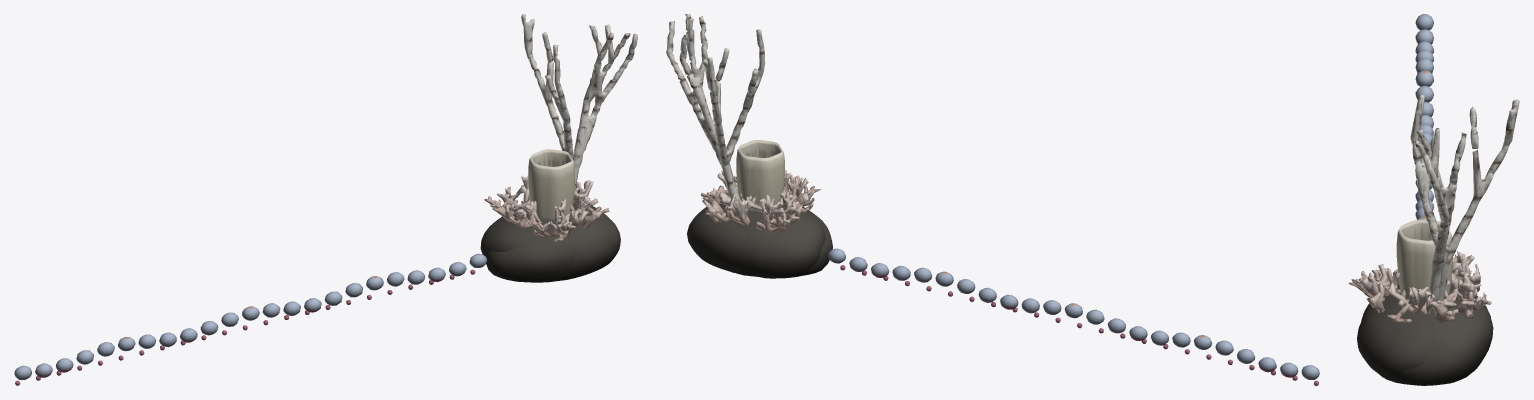
File: deep_cosy.glb
The picture shows the model from 3 angles, left to right: view 1: azimuth 30°, elevation 25°; view 2: azimuth 150°, elevation 25°; view 3: azimuth 270°, elevation 25°; orthographic projection. The views are drawn at different scales.
Parts seen in each view (by area): view 1: siphonophore_0, deeprock_1, deeprock_0, siphonophore_0_lo, glasssponge_0, bamboo_1, bamboo_0, bamboo_1_lo, deeprock_1_lo, bamboo_0_lo, deepcoral_2, deeprock_0_lo (+4 smaller); view 2: siphonophore_0, deeprock_0, siphonophore_0_lo, deeprock_0_lo, bamboo_0, bamboo_1, glasssponge_0, glasssponge_0_lo, bamboo_1_lo, bamboo_0_lo, deepcoral_2, deeprock_1 (+3 smaller); view 3: deeprock_0, bamboo_0, deeprock_0_lo, bamboo_1, deeprock_1, bamboo_0_lo, siphonophore_0, glasssponge_0, bamboo_1_lo, glasssponge_0_lo, deepcoral_1, deepcoral_2 (+6 smaller).
Boxes of the visible parts, x1,y1,x2,y2 form: siphonophore_0: (14,253,486,385); deeprock_1: (485,203,620,282); deeprock_0: (480,202,615,275); siphonophore_0_lo: (14,253,486,385); glasssponge_0: (528,149,574,219); bamboo_1: (574,24,637,189); bamboo_0: (521,14,573,158); bamboo_1_lo: (572,25,637,187); deeprock_1_lo: (486,205,619,282); bamboo_0_lo: (522,16,573,155); deepcoral_2: (484,185,601,236); deeprock_0_lo: (480,206,614,275); siphonophore_0: (828,248,1319,385); deeprock_0: (687,201,825,278); siphonophore_0_lo: (828,248,1319,385); deeprock_0_lo: (688,203,825,278); bamboo_0: (703,29,764,198); bamboo_1: (666,14,734,181); glasssponge_0: (736,140,784,212); glasssponge_0_lo: (736,140,784,212); bamboo_1_lo: (666,14,736,187); bamboo_0_lo: (703,30,765,197); deepcoral_2: (702,173,808,231); deeprock_1: (705,199,832,276); deeprock_0: (1357,285,1492,385); bamboo_0: (1410,94,1519,303); deeprock_0_lo: (1357,286,1493,385); bamboo_1: (1415,128,1466,300); deeprock_1: (1361,286,1487,378); bamboo_0_lo: (1411,94,1518,303); siphonophore_0: (1415,14,1433,219); glasssponge_0: (1397,219,1452,300); bamboo_1_lo: (1415,130,1466,301); glasssponge_0_lo: (1396,219,1452,296); deepcoral_1: (1352,254,1474,323); deepcoral_2: (1359,251,1491,319).
Bounding box in the file's own units: 5.56 × 1.92 × 1.1.
